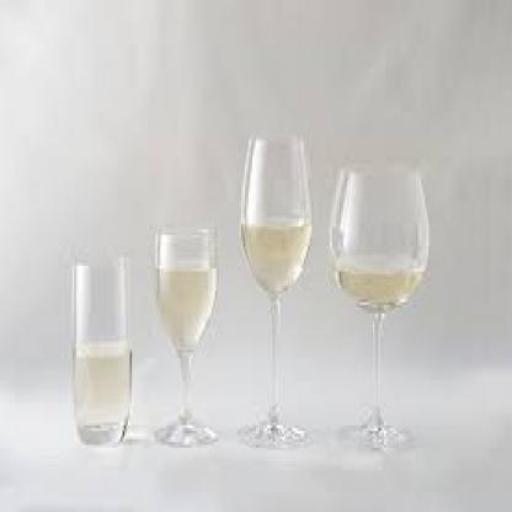glass: (328, 165, 426, 453), (233, 132, 312, 448), (150, 224, 219, 439), (69, 252, 132, 445)
